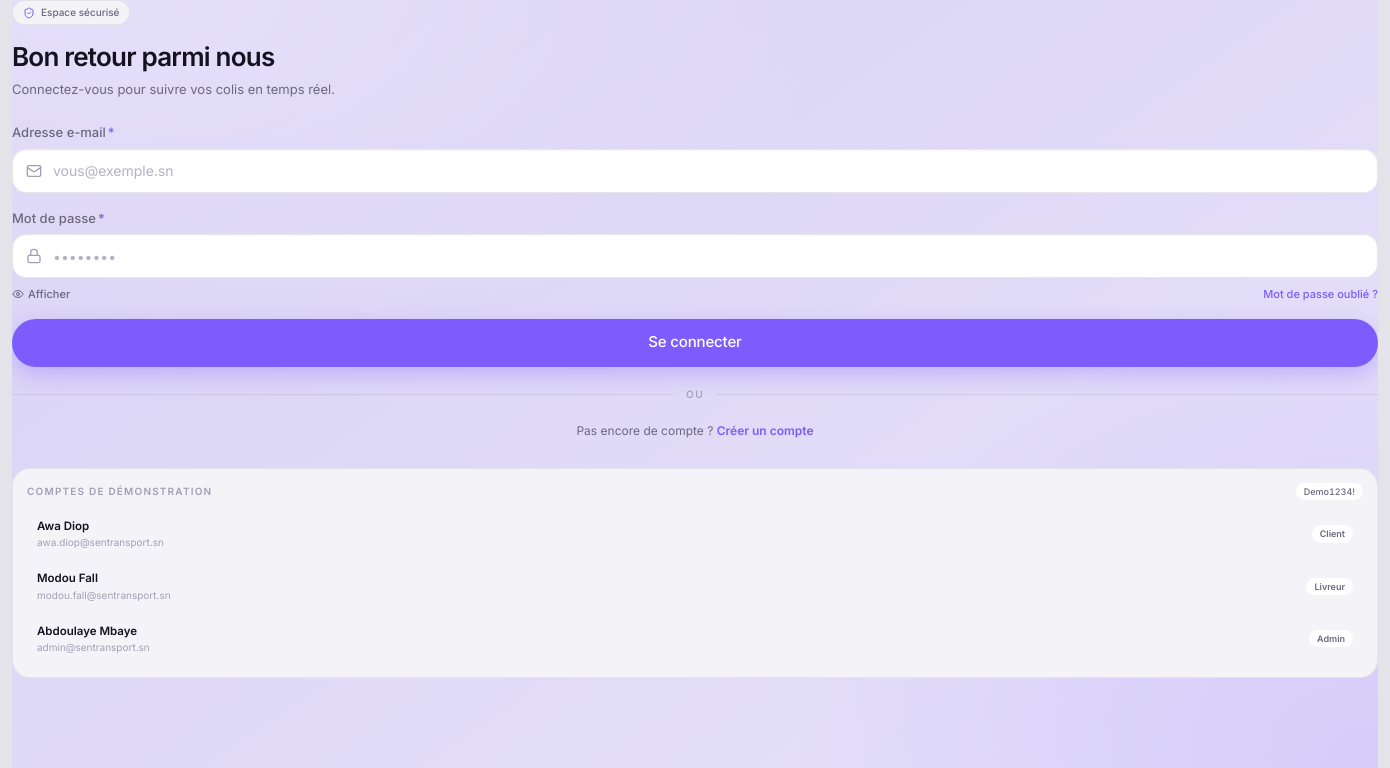
Test: LoginForm › valide le format de l’adresse e-mail
Type "pas-un-email" into the field labelled "Adresse e-mail*" at (695, 170), box [12,148,1378,192]
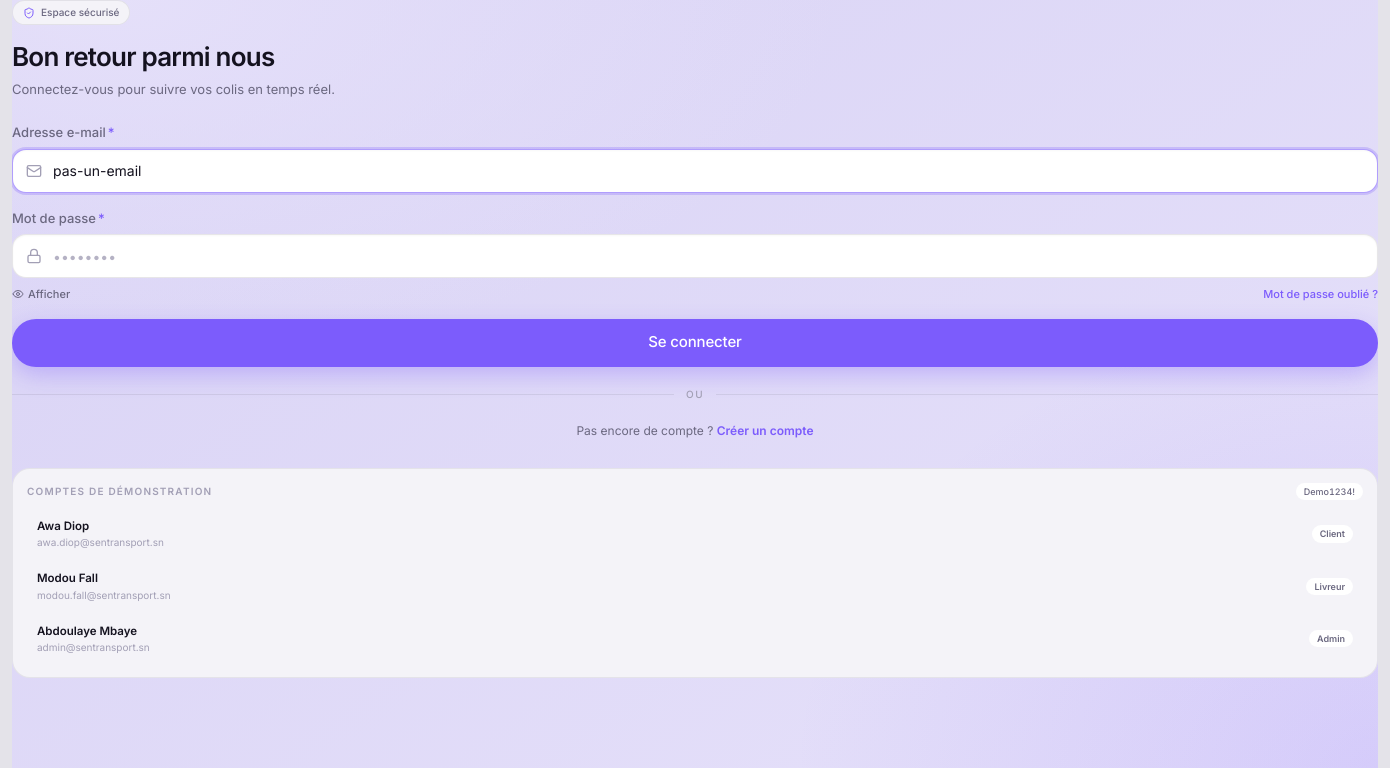
Type "Demo1234!" into the password field labelled "Mot de passe*" at (695, 256), box [12,234,1378,278]
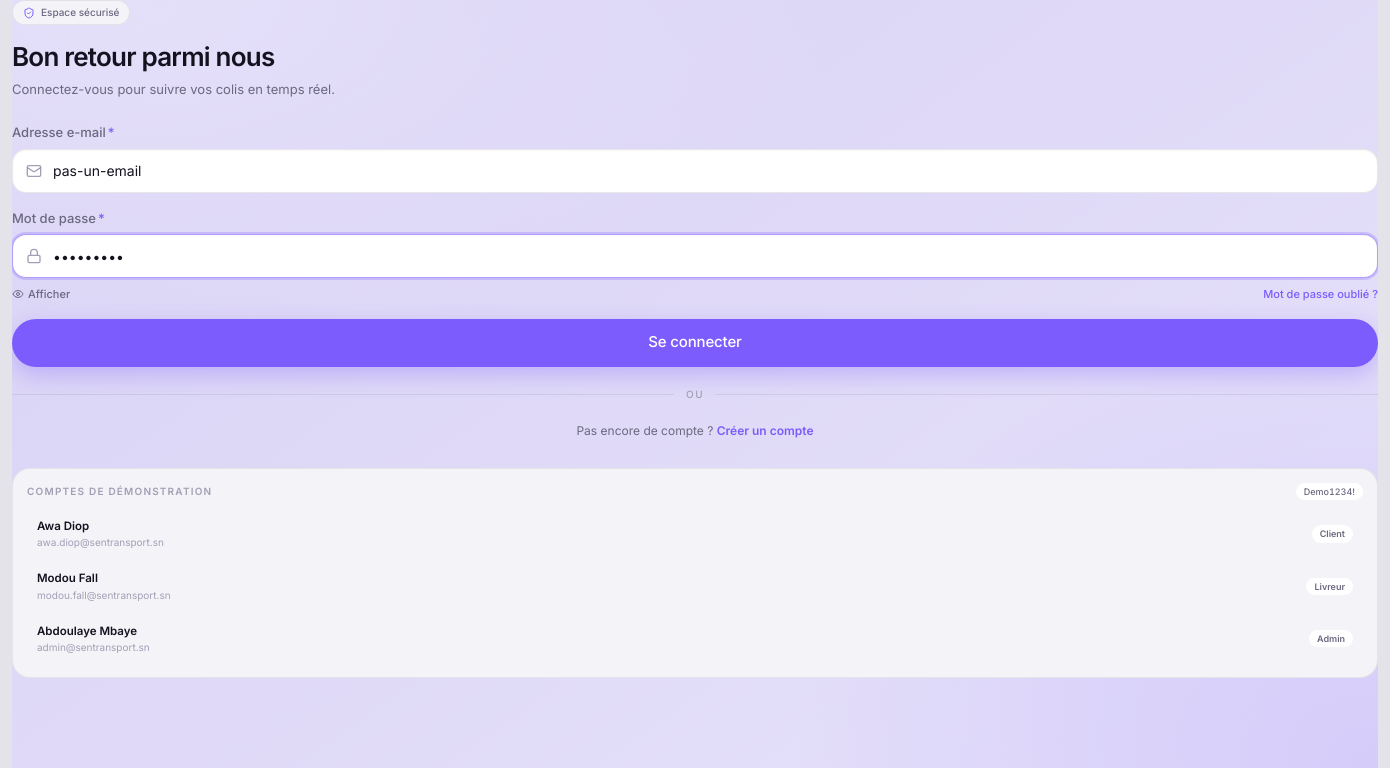
Click the button "Se connecter" at (695, 342), box [12,318,1378,366]
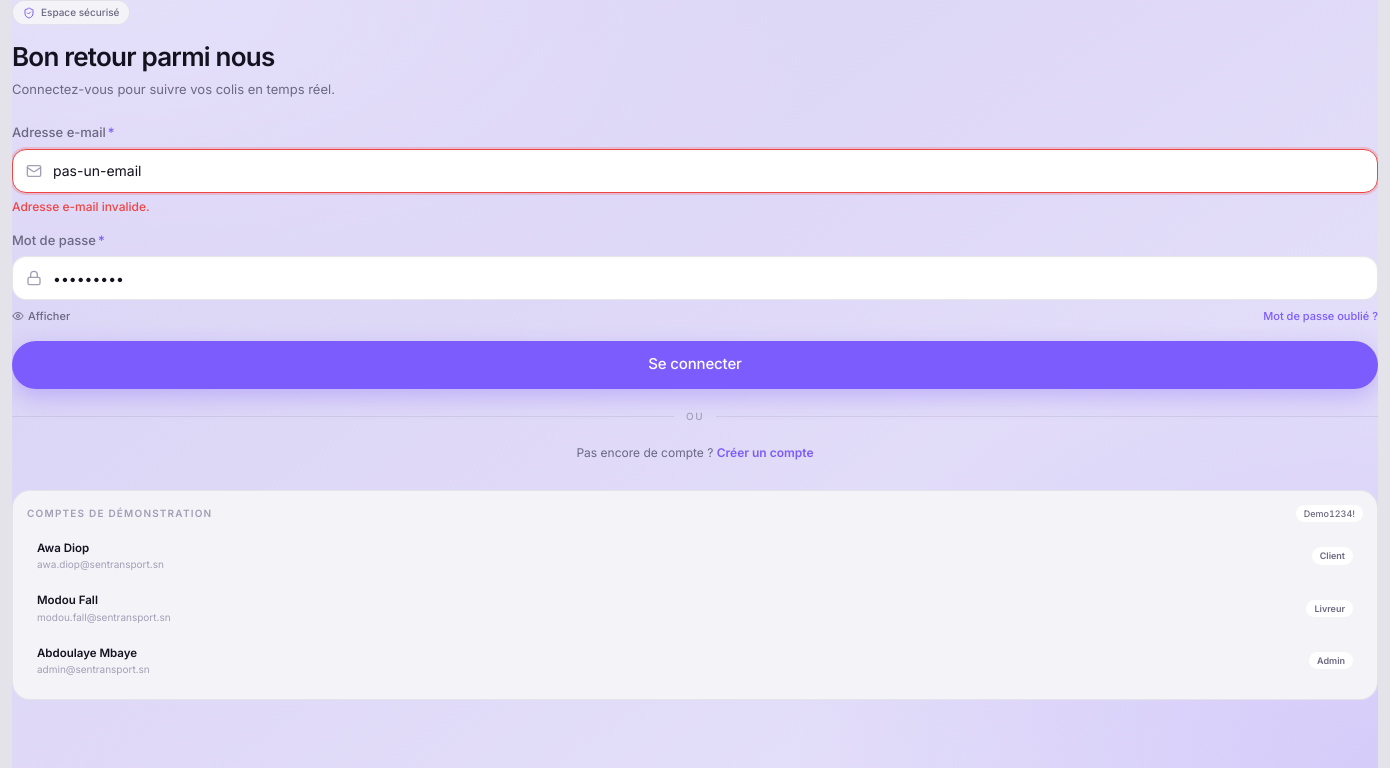
Expected: the text "Adresse e-mail invalide." is shown, [12,198,150,214]
